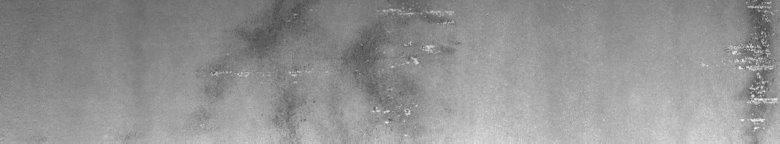hc: (702, 4, 776, 132)
